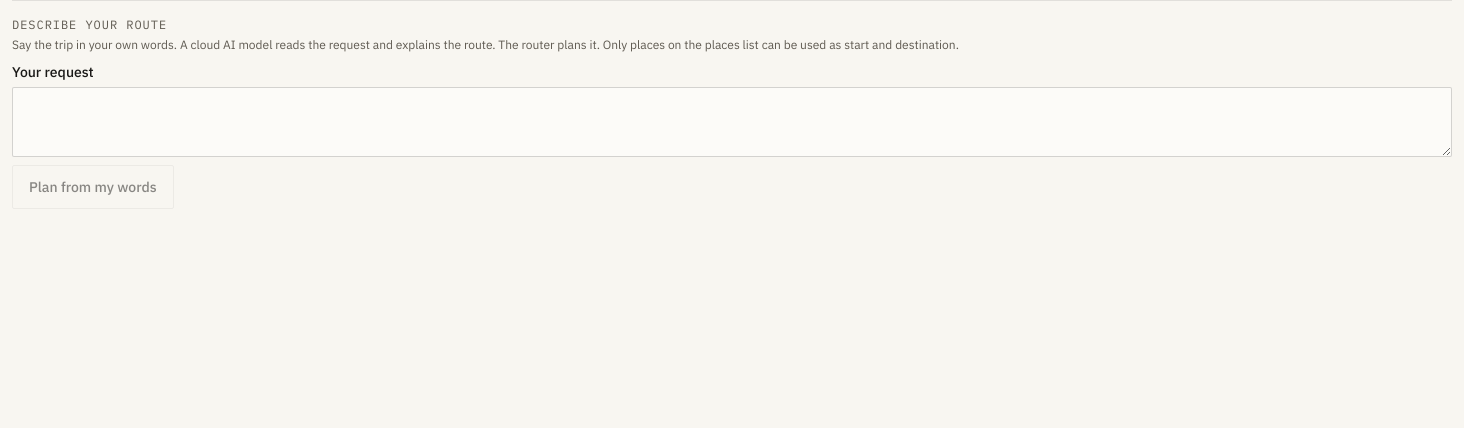
Test: describe a route in plain words › says so when no model wrote the explanation
Type "Route to Grand Central" into the text box labelled "Your request" at [732, 122], box top-left (12, 87), bottom-right (1452, 157)
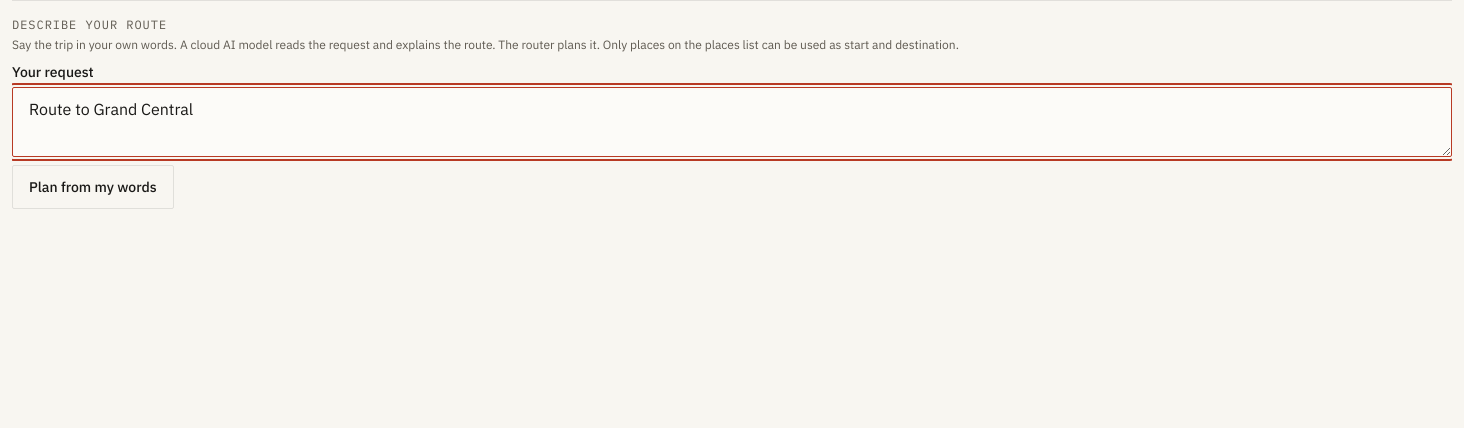
Click the button "Plan from my words" at [93, 187], box top-left (12, 165), bottom-right (174, 209)
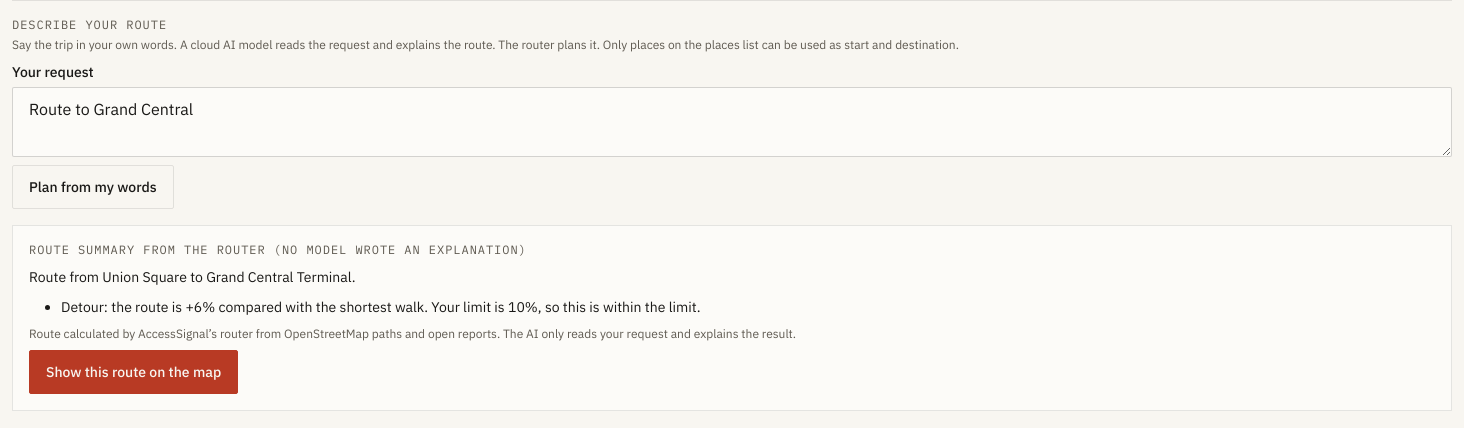
Result: the text "no model wrote an explanation" is shown at top-left (29, 242), bottom-right (527, 257)
